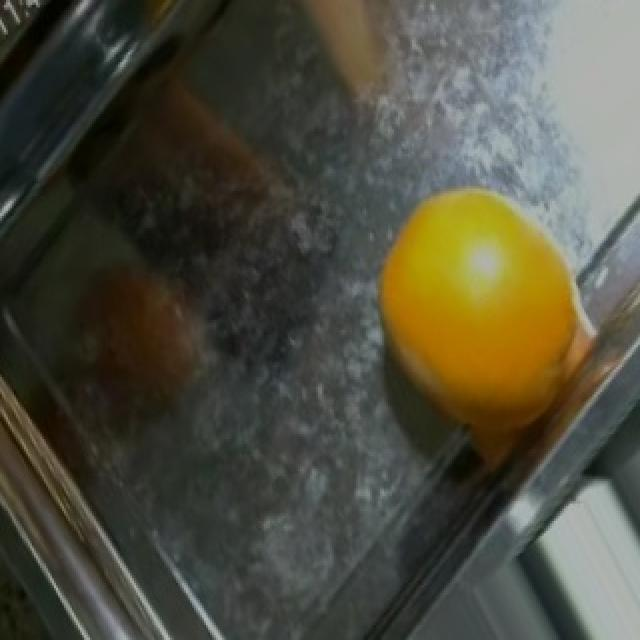Fruit: (358, 164, 604, 452)
